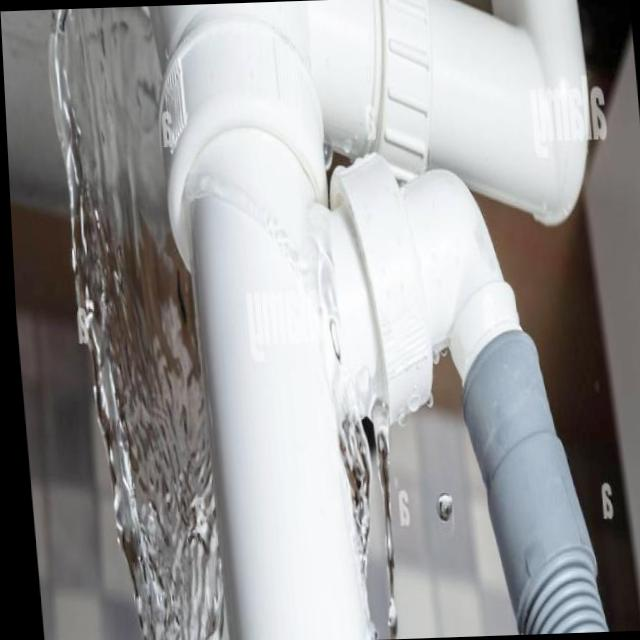leak: (50, 6, 224, 640), (334, 367, 378, 639)
